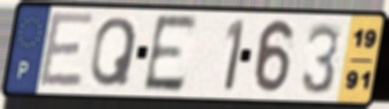1: (223, 17, 247, 94)
3: (301, 19, 341, 97)
6: (252, 17, 297, 97)
E: (140, 13, 201, 95), (36, 10, 97, 91)
Q: (87, 15, 140, 90)
